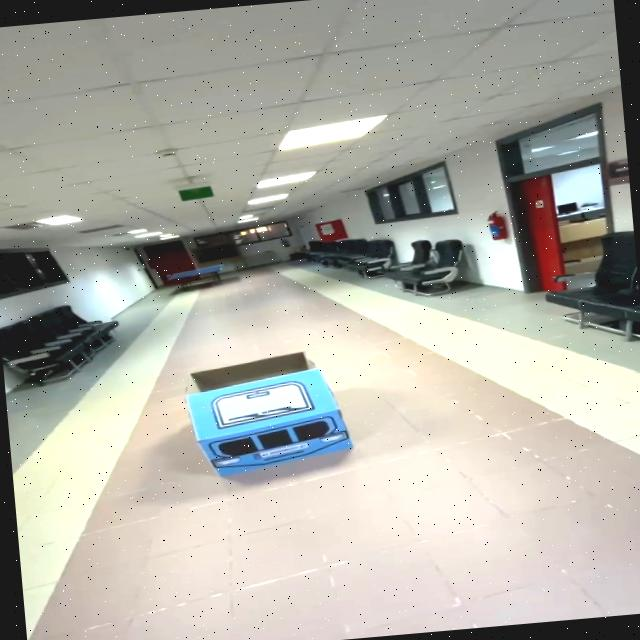blue_car: (155, 332, 377, 493)
